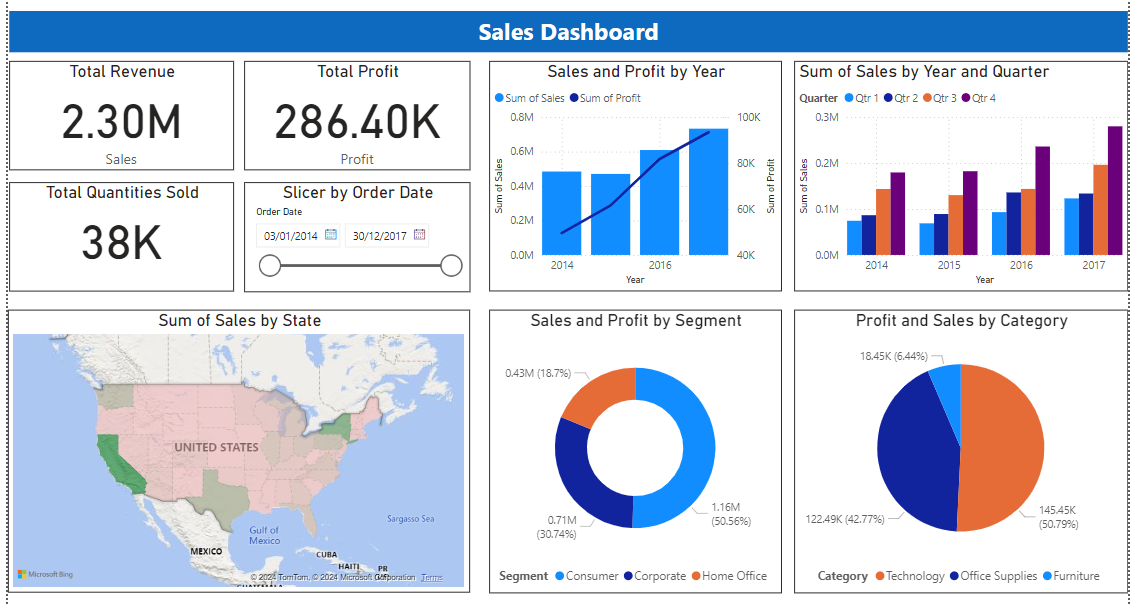

The page's visual inventory and layout, read from the dashboard file:
{"tool":"powerbi","page":{"name":"Sales Dashboard","canvas":[1280,720],"ordinal":0},"visuals":[{"type":"card","title":"Total Revenue","fields":{"Values":["Sum(Orders.Sales)"]},"box":[1.7,96.7,256.7,125],"z":0},{"type":"card","title":"Total Quantities Sold","fields":{"Values":["Sum(Orders.Quantity)"]},"box":[1.7,235,256.7,125],"z":1000},{"type":"card","title":"Total Profit","fields":{"Values":["Sum(Orders.Profit)"]},"box":[270,96.7,258.3,125],"z":2000},{"type":"lineStackedColumnComboChart","title":"Sales and Profit by Year","fields":{"Y":["Sum(Orders.Sales)"],"Category":["Orders.Order Date.Variation.Date Hierarchy.Year"],"Y2":["Sum(Orders.Profit)"]},"box":[550,97.1,334.3,262.9],"z":3000},{"type":"clusteredColumnChart","fields":{"Category":["Orders.Order Date.Variation.Date Hierarchy.Year"],"Y":["Sum(Orders.Sales)"],"Series":["Orders.Order Date.Variation.Date Hierarchy.Quarter"]},"box":[898.6,97.1,381.4,262.9],"z":4000},{"type":"filledMap","fields":{"Category":["Orders.State"]},"box":[0,381.7,528.3,323.3],"z":5000},{"type":"donutChart","title":"Sales and Profit by Segment","fields":{"Category":["Orders.Segment"],"Y":["Sum(Orders.Sales)"]},"box":[550,381.4,334.3,324.3],"z":6000},{"type":"pieChart","title":"Profit and Sales by Category","fields":{"Y":["Sum(Orders.Profit)"],"Category":["Orders.Category"]},"box":[898.6,381.4,381.4,324.3],"z":7000},{"type":"textbox","box":[1.4,40,1278.6,47.1],"z":8000},{"type":"slicer","title":"Slicer by Order Date","fields":{"Values":["Orders.Order Date"]},"box":[270,235.7,258.6,125.7],"z":9000}]}

Visuals, with their boxes in screenshot pixels (x1, y1, x2, y2):
"Total Revenue" card: bbox(0, 56, 227, 168)
"Total Quantities Sold" card: bbox(0, 179, 227, 291)
"Total Profit" card: bbox(237, 56, 467, 168)
"Sales and Profit by Year" lineStackedColumnComboChart: bbox(486, 57, 783, 291)
clusteredColumnChart - Orders.Order Date.Variation.Date Hierarchy.Year x Sum(Orders.Sales): bbox(796, 57, 1135, 291)
filledMap - Orders.State: bbox(0, 310, 467, 597)
"Sales and Profit by Segment" donutChart: bbox(486, 310, 783, 598)
"Profit and Sales by Category" pieChart: bbox(796, 310, 1135, 598)
textbox: bbox(0, 6, 1135, 48)
"Slicer by Order Date" slicer: bbox(237, 180, 467, 292)
